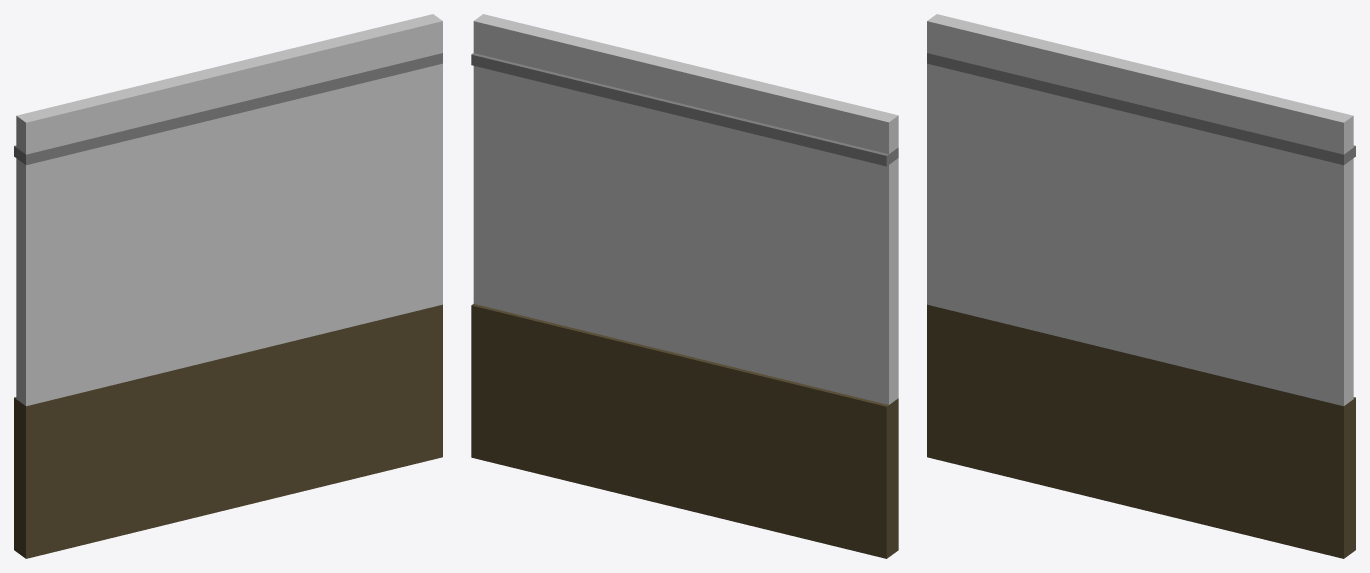
The model's file is FachadaNeutra.fbx.
3 renders of one model, left to right at view 1: azimuth 30°, elevation 25°; view 2: azimuth 150°, elevation 25°; view 3: azimuth 330°, elevation 25°, orthographic.
Visible parts, largest first — view 1: Fachada Neutra; view 2: Fachada Neutra; view 3: Fachada Neutra.
Part boxes in pixels (bbox=[...]): Fachada Neutra: bbox=[14, 14, 442, 558]; Fachada Neutra: bbox=[471, 14, 898, 558]; Fachada Neutra: bbox=[927, 14, 1355, 558].
Size of the model in its own units: 400 by 400 by 20.
